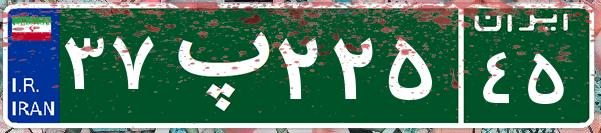2: (273, 28, 330, 110), (330, 28, 385, 110)
3: (57, 26, 110, 107)
4: (475, 38, 525, 113)
5: (385, 28, 445, 110), (525, 38, 570, 115)
7: (110, 28, 158, 105)
پ: (158, 15, 273, 115)
